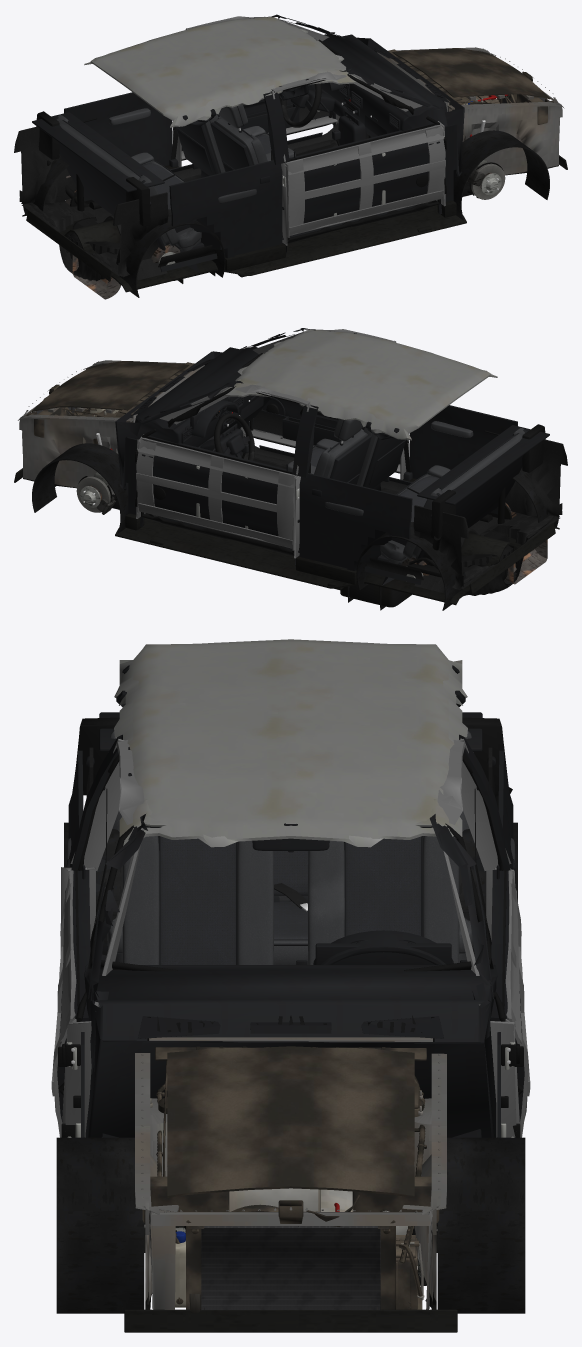
Rendered from caipora_completo.glb.
The picture shows the model from 3 angles, top to bottom: view 1: azimuth 30°, elevation 25°; view 2: azimuth 150°, elevation 25°; view 3: azimuth 270°, elevation 25°; orthographic projection. The views are drawn at different scales.
Visible parts, largest first — view 1: interior_forro_teto, interior_lateral_traseira_dir, door_card_fr_chapa, interior_painel, interior_portamalas_carpete, under_assoalho, door_card_fr, hood_manta, engine_paralama_interno_dir, interior_banco_traseiro, interior_lateral_traseira_esq, interior_carpete (+23 smaller); view 2: interior_forro_teto, interior_lateral_traseira_esq, door_card_fl_chapa, interior_painel, interior_portamalas_carpete, under_assoalho, door_card_fl, hood_manta, engine_paralama_interno_esq, interior_banco_traseiro, interior_lateral_traseira_dir, under_caixa_roda_fl (+23 smaller); view 3: interior_forro_teto, interior_painel, hood_manta, interior_banco_dianteiro_dir, engine_radiador, under_caixa_roda_fl, under_caixa_roda_fr, interior_banco_dianteiro_esq, engine_travessa, under_saias, interior_acabamento_colunas, jamb_fr_colunas (+23 smaller).
Boxes of the visible parts, left/top/right/bottom form: interior_forro_teto: left=84, top=17, right=359, bottom=127; interior_lateral_traseira_dir: left=169, top=160, right=282, bottom=272; door_card_fr_chapa: left=284, top=124, right=446, bottom=237; interior_painel: left=310, top=34, right=464, bottom=177; interior_portamalas_carpete: left=14, top=126, right=168, bottom=281; under_assoalho: left=22, top=205, right=466, bottom=292; door_card_fr: left=289, top=123, right=439, bottom=223; hood_manta: left=392, top=48, right=550, bottom=100; engine_paralama_interno_dir: left=447, top=98, right=562, bottom=175; interior_banco_traseiro: left=54, top=114, right=204, bottom=252; interior_lateral_traseira_esq: left=64, top=92, right=172, bottom=201; interior_carpete: left=75, top=123, right=437, bottom=272; interior_forro_teto: left=221, top=329, right=497, bottom=440; interior_lateral_traseira_esq: left=299, top=473, right=412, bottom=585; door_card_fl_chapa: left=135, top=437, right=297, bottom=550; interior_painel: left=115, top=347, right=271, bottom=490; interior_portamalas_carpete: left=407, top=439, right=567, bottom=595; under_assoalho: left=115, top=514, right=559, bottom=605; door_card_fl: left=142, top=435, right=292, bottom=536; hood_manta: left=31, top=361, right=189, bottom=413; engine_paralama_interno_esq: left=19, top=411, right=134, bottom=494; interior_banco_traseiro: left=377, top=427, right=527, bottom=565; interior_lateral_traseira_dir: left=409, top=405, right=517, bottom=514; under_caixa_roda_fl: left=32, top=443, right=128, bottom=533; interior_forro_teto: left=114, top=639, right=467, bottom=847; interior_painel: left=84, top=930, right=497, bottom=1137; hood_manta: left=167, top=1046, right=414, bottom=1197; interior_banco_dianteiro_dir: left=122, top=836, right=273, bottom=964; engine_radiador: left=186, top=1220, right=395, bottom=1313; under_caixa_roda_fl: left=437, top=1137, right=525, bottom=1313; under_caixa_roda_fr: left=56, top=1137, right=144, bottom=1313; interior_banco_dianteiro_esq: left=308, top=836, right=459, bottom=964; engine_travessa: left=142, top=1176, right=439, bottom=1309; under_saias: left=124, top=1309, right=457, bottom=1332; interior_acabamento_colunas: left=71, top=734, right=510, bottom=1011; jamb_fr_colunas: left=65, top=739, right=144, bottom=1137.
Size of what is drawn, in the model's own units: 3.5 by 1.45 by 1.55.
Materials: 54 (54 with a texture image).
